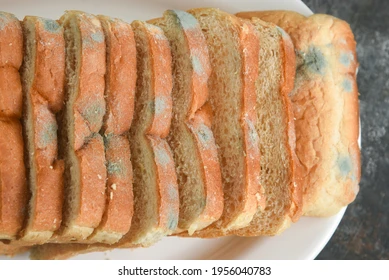mold_bread: (291, 44, 327, 94), (76, 95, 102, 145), (32, 108, 57, 152), (167, 3, 200, 32), (243, 117, 263, 152), (334, 152, 358, 180), (193, 124, 217, 151), (38, 15, 62, 37), (104, 159, 126, 181), (80, 32, 105, 49), (146, 21, 165, 42), (154, 148, 173, 169), (149, 95, 166, 118), (188, 53, 204, 75), (167, 208, 180, 232), (338, 52, 354, 70), (1, 7, 11, 35), (167, 183, 180, 201), (340, 77, 353, 94)
